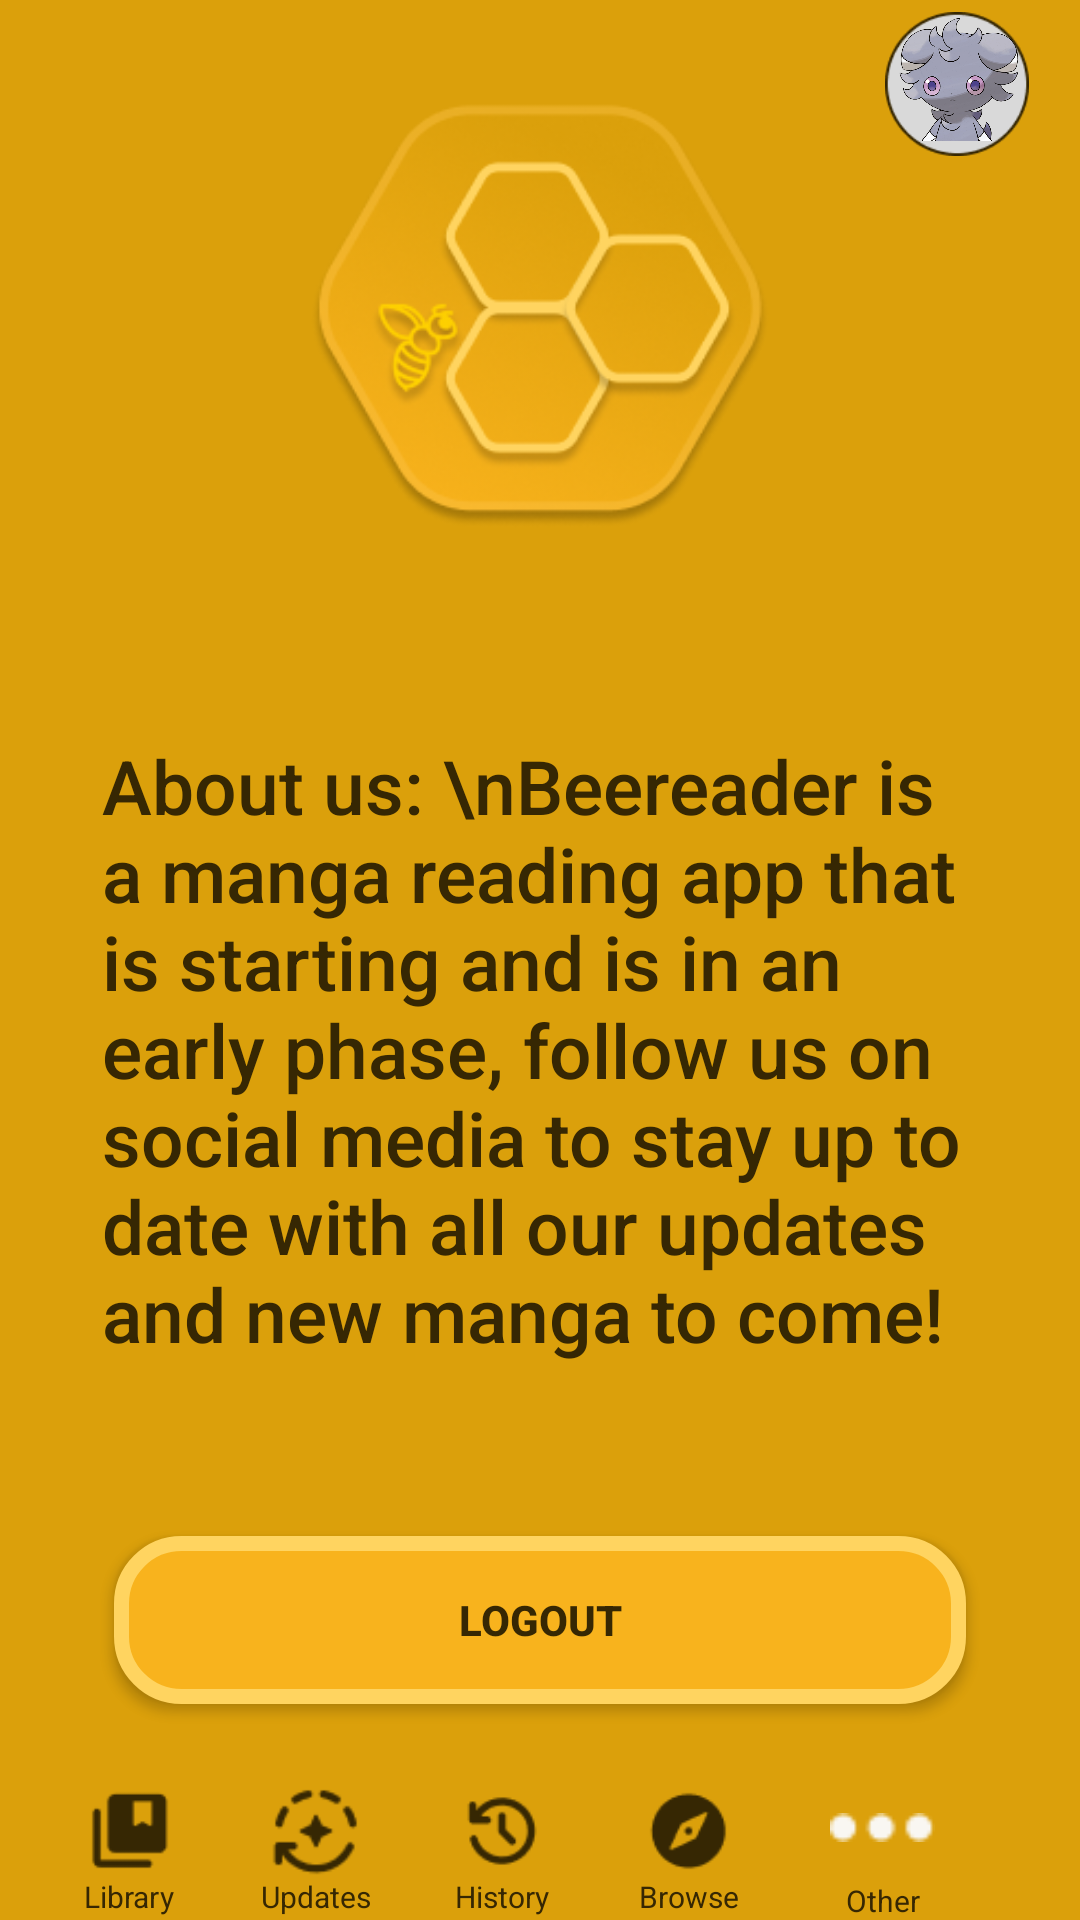

Icons on this 1080px×1920px Android screen, each with its box as bbox=[x1, y1, x2, y2]:
brujulanegra: bbox=[651, 1793, 726, 1869]
puntosblancos: bbox=[830, 1813, 933, 1842]
relojnegro: bbox=[468, 1797, 536, 1865]
